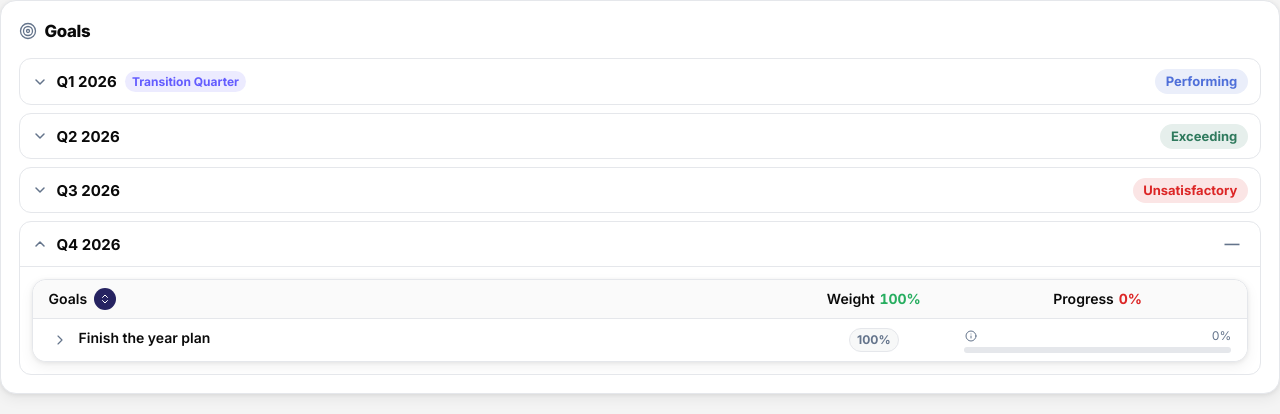
Test: AnnualGoalsQuarters › shows quarter bars with grades and expands one goals table at a time
The width and height of the screenshot is (1280, 414).
Expected: the heading "Goals" is shown, x1=19 y1=19 x2=90 y2=44
Expected: the text named "Q1 2026 grade" reads "Performing", x1=1166 y1=73 x2=1237 y2=89
Click the button "Q1 2026 Transition Quarter": (87,82) x1=20 y1=59 x2=1143 y2=104
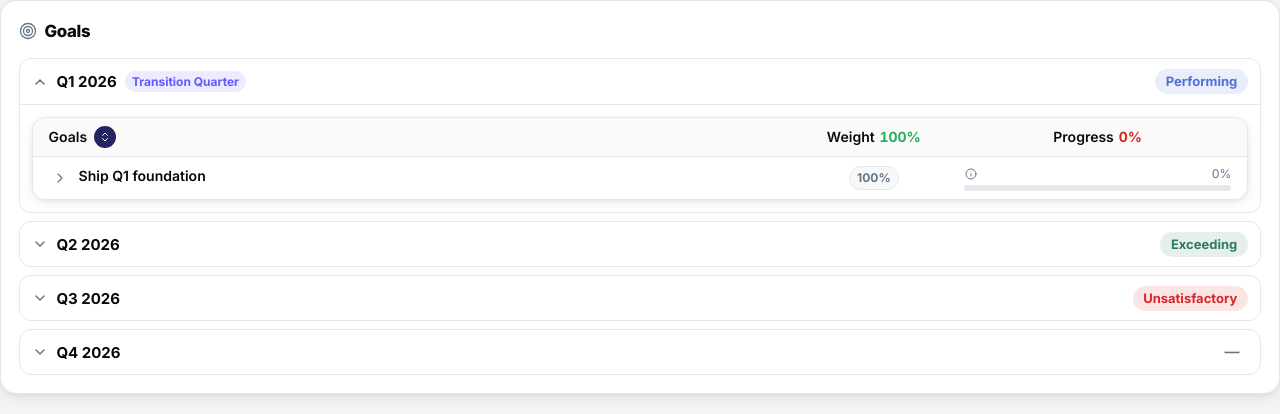
Expected: the button "Q1 2026 Transition Quarter" is expanded
Expected: the text "Ship Q1 foundation" is shown, x1=79 y1=167 x2=206 y2=184
Expected: the text "Finish the year plan" is gone
Click the button "Q1 2026 Transition Quarter": (87,82) x1=20 y1=59 x2=1143 y2=104
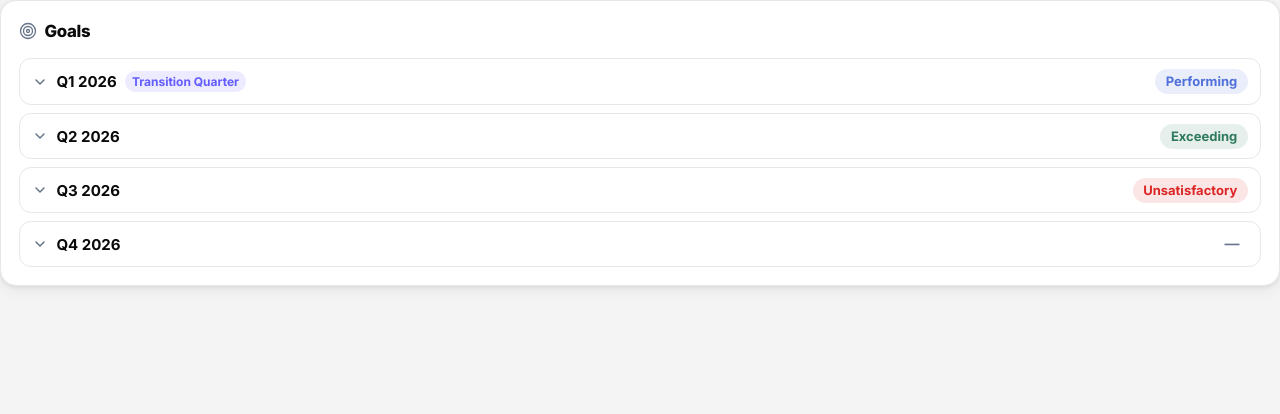
Expected: the button "Q1 2026 Transition Quarter" is collapsed, x1=20 y1=59 x2=1143 y2=104
Expected: the text "Ship Q1 foundation" is gone
